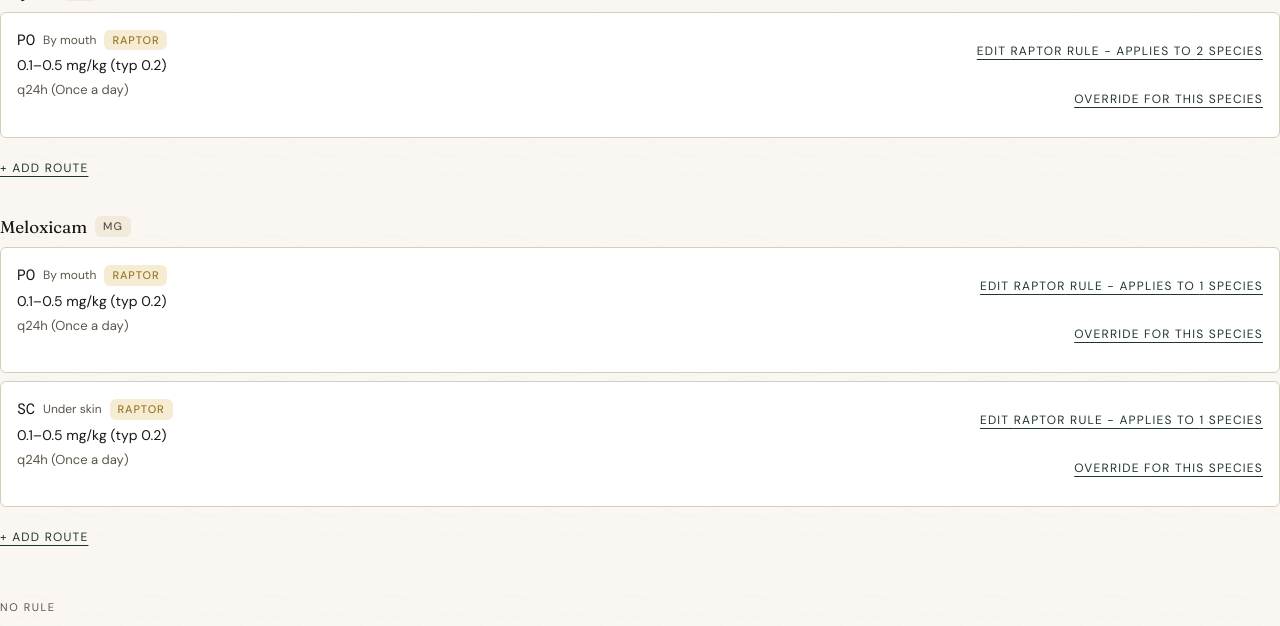
Test: SpeciesPage › copies both routes when overriding from the SC row, then opens the SC copy
(page scrolled)
Click the 3rd button "Override for this species": (1169, 468) [1074,446,1263,490]
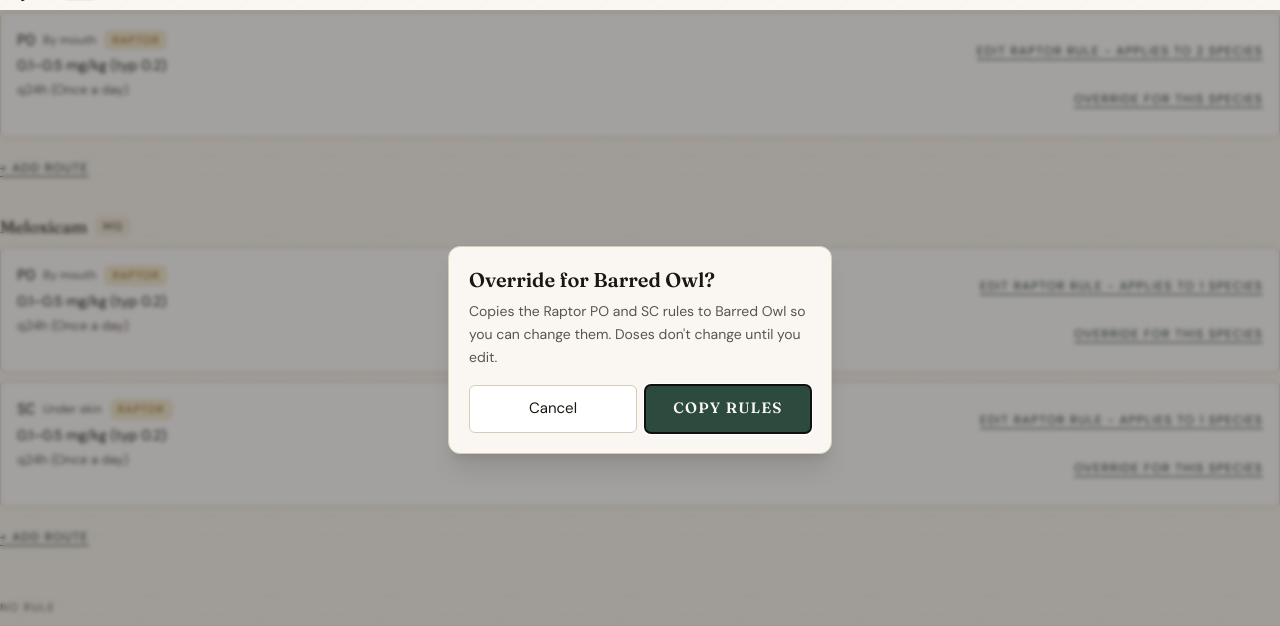
Now the text "Copies the Raptor PO and SC rules to Barred Owl" is shown, box [469,302,806,366]
Click the button "Copy rules": (728, 409) [645,385,811,433]
(page scrolled)
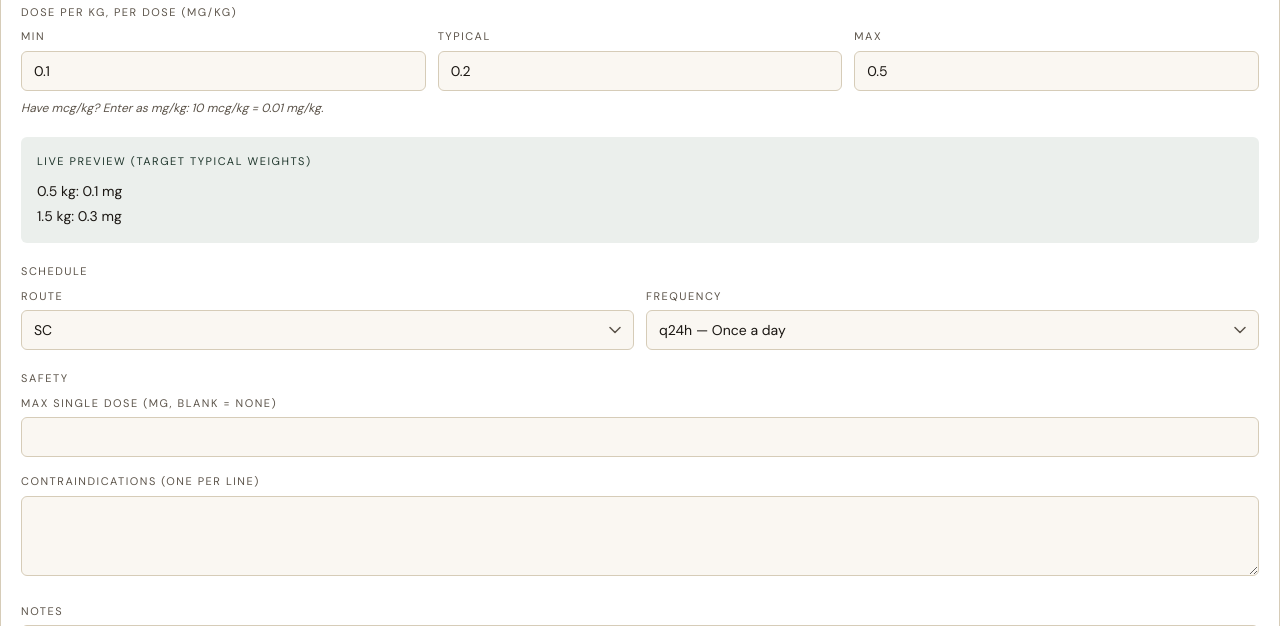
Now the dropdown labelled "Route" shows "SC", box [21,310,634,350]
